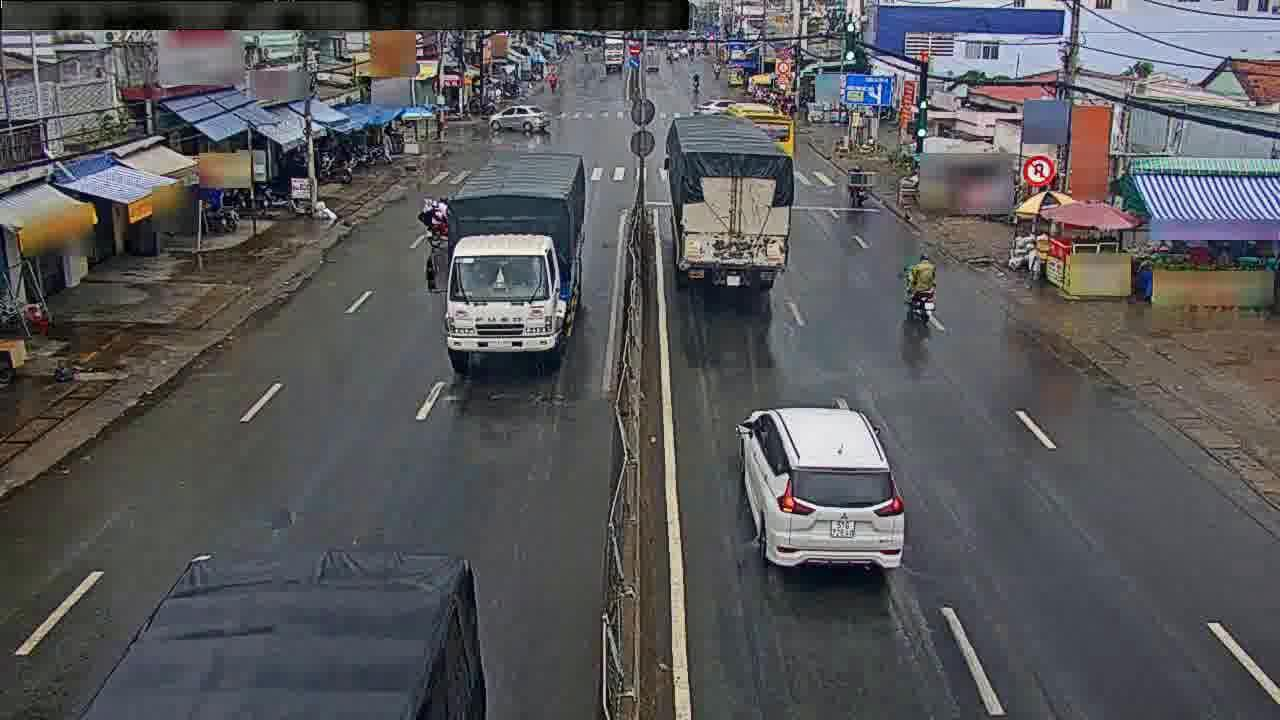8: (441, 144, 588, 371), (668, 111, 786, 278)
container: (727, 401, 908, 580), (486, 100, 551, 133), (694, 93, 754, 120)
motorbike: (902, 251, 943, 328), (413, 191, 454, 241), (845, 160, 879, 209)
